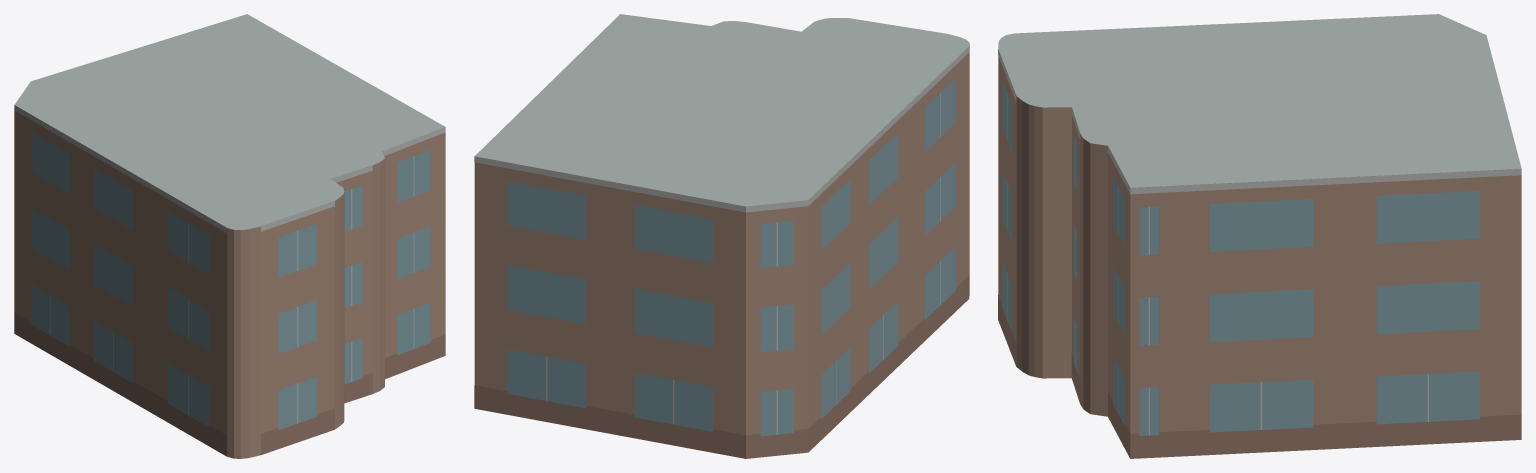
The model's file is survey-upis-32982047.glb.
3 renders of one model, left to right at view 1: azimuth 30°, elevation 25°; view 2: azimuth 150°, elevation 25°; view 3: azimuth 270°, elevation 25°, orthographic. The views are drawn at different scales.
Visible parts, largest first — view 1: survey-upis-32982047.tmp; view 2: survey-upis-32982047.tmp; view 3: survey-upis-32982047.tmp.
Boxes of the visible parts, bbox=[...] form: survey-upis-32982047.tmp: bbox=[14, 14, 445, 458]; survey-upis-32982047.tmp: bbox=[474, 14, 969, 458]; survey-upis-32982047.tmp: bbox=[998, 14, 1521, 458].
Size of the model in its own units: 14.18 by 10.3 by 18.05.
